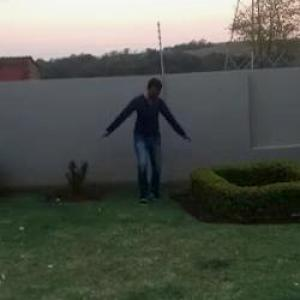land: (92, 68, 200, 220)
